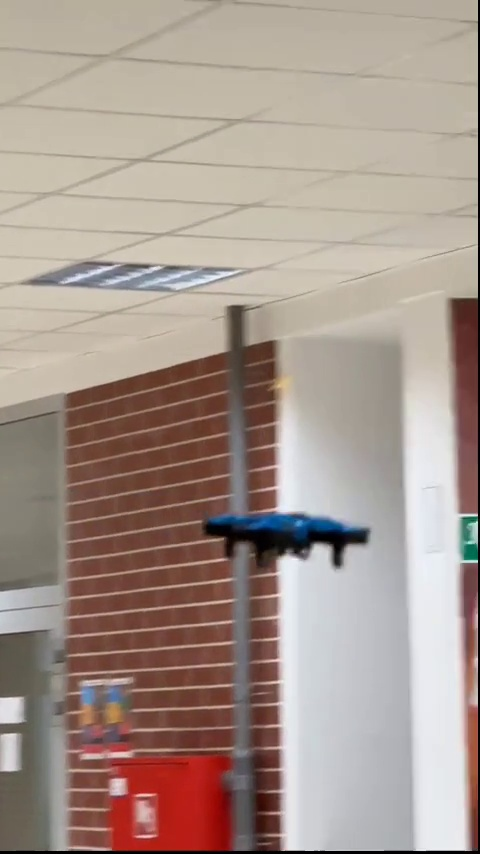drone: (206, 510, 368, 569)
